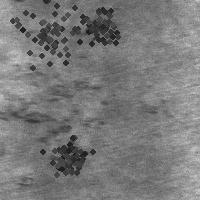rolled-in_scale: (1, 62, 103, 162), (6, 0, 98, 73), (37, 126, 95, 184), (27, 21, 102, 56), (74, 0, 126, 50)
